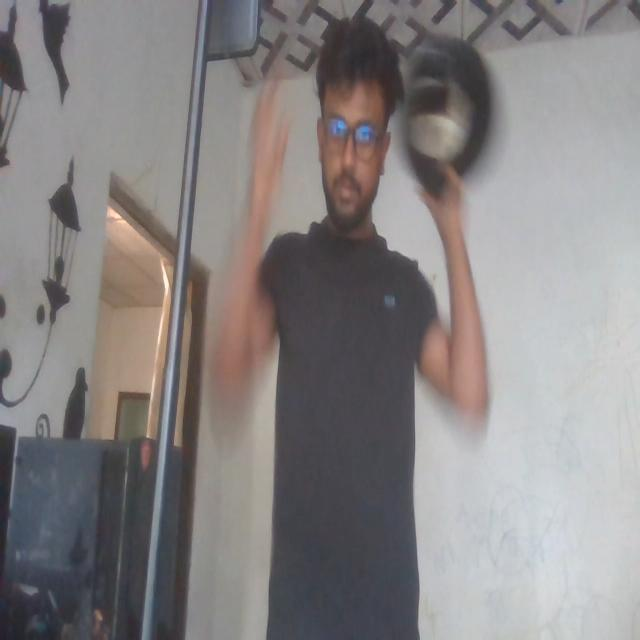Person: (219, 1, 471, 640)
